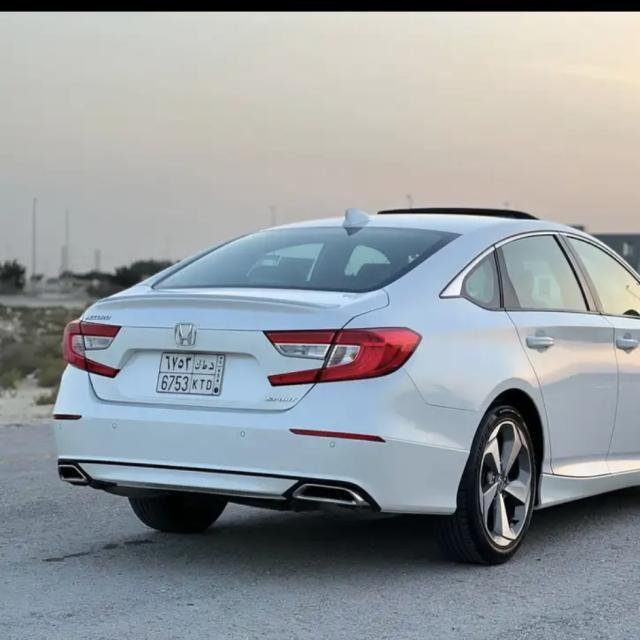license_plate: (156, 350, 227, 395)
